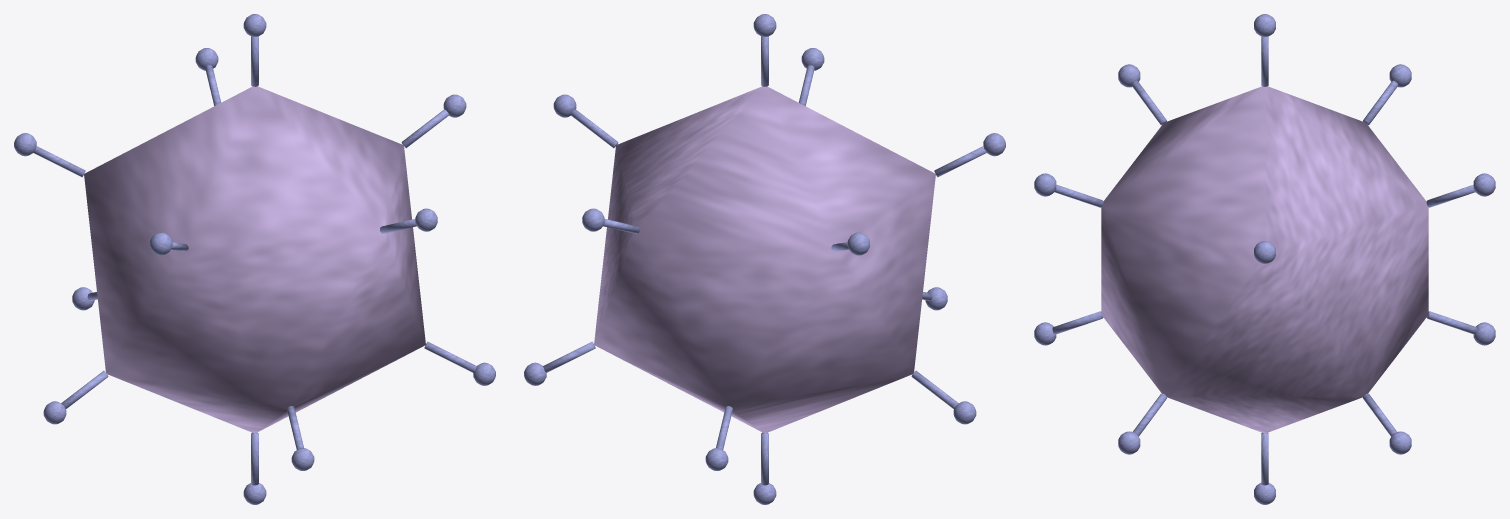
The model's file is complete.glb.
3 renders of one model, left to right at view 1: azimuth 30°, elevation 25°; view 2: azimuth 150°, elevation 25°; view 3: azimuth 270°, elevation 25°, orthographic.
Visible parts, largest first — view 1: capsideo_mesh, fibras_mesh; view 2: capsideo_mesh, fibras_mesh; view 3: capsideo_mesh, fibras_mesh.
Part boxes in pixels (x1,y1,x2,y2): capsideo_mesh: [84, 86, 425, 433]; fibras_mesh: [14, 14, 495, 504]; capsideo_mesh: [594, 86, 935, 433]; fibras_mesh: [524, 14, 1005, 504]; capsideo_mesh: [1101, 86, 1428, 433]; fibras_mesh: [1034, 14, 1495, 504].
Size of the model in its own units: 2.72 by 3.03 by 2.59.
Materials: 3 (3 with a texture image).
